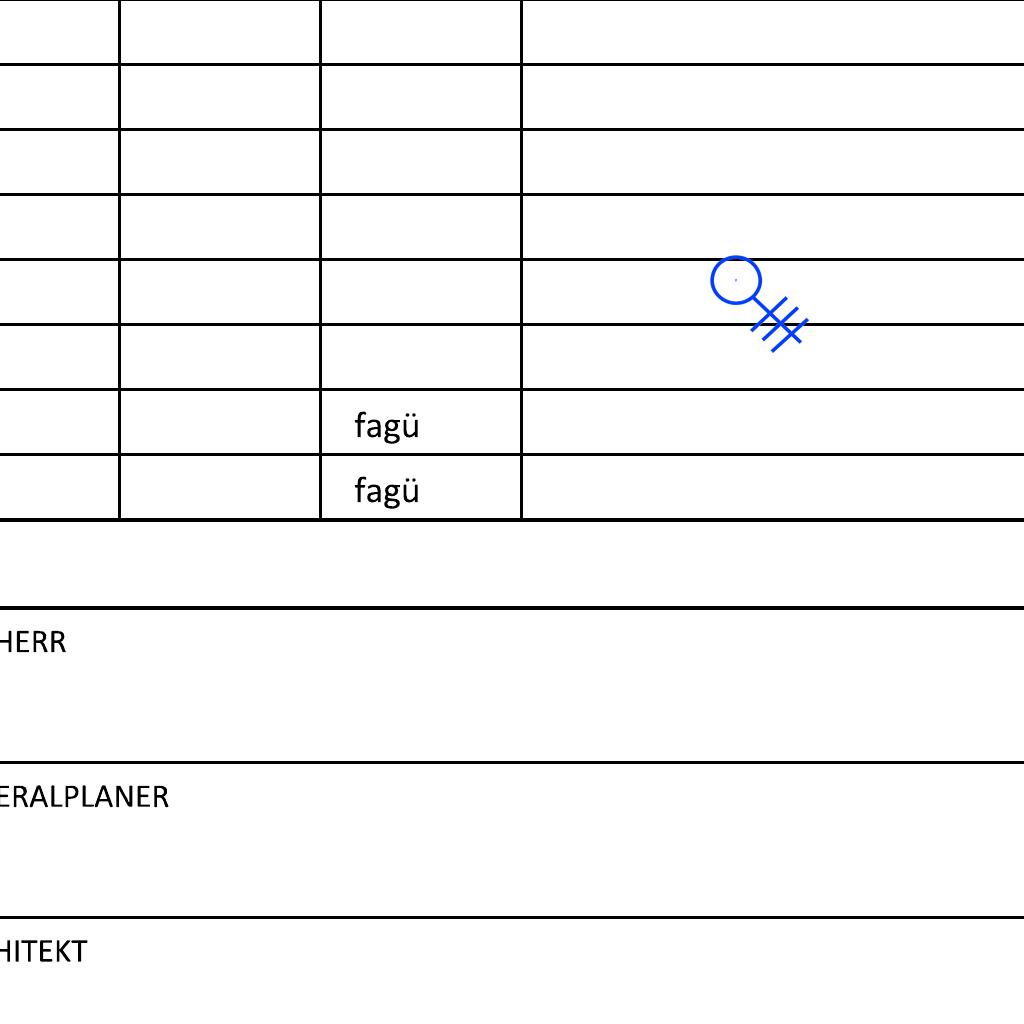Elektroanschluss_allgemein_400V_Geraeteanschlussdose_400V: (709, 238, 822, 354)
